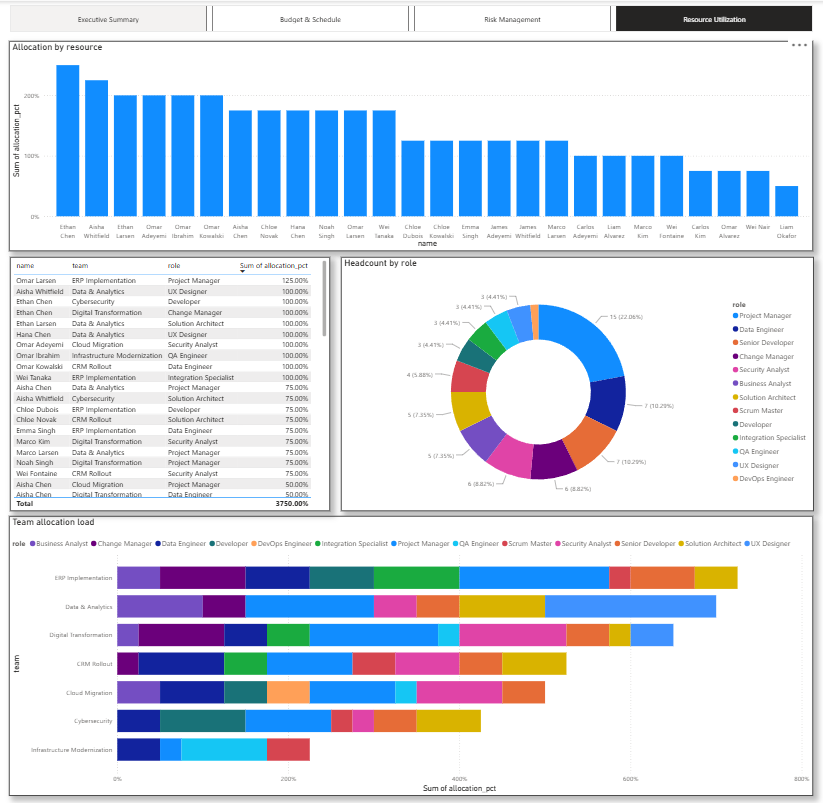

This screenshot's page, from the dashboard's own definition file:
{"tool":"powerbi","page":{"name":"Resource Utilization","canvas":[1550,1500],"ordinal":3},"visuals":[{"type":"clusteredColumnChart","title":"Allocation by resource","fields":{"Category":["Resources.name"],"Y":["Sum(Resources.allocation_pct)"]},"box":[18,74,1500,392],"z":0},{"type":"donutChart","title":"Headcount by role","fields":{"Category":["Resources.role"],"Y":["CountNonNull(Resources.resource_id)"]},"box":[638.1,477.6,882.5,473.9],"z":1000},{"type":"barChart","title":"Team allocation load","fields":{"Category":["Resources.team"],"Y":["Sum(Resources.allocation_pct)"],"Series":["Resources.role"]},"box":[18.7,960.8,1500,522.4],"z":2000},{"type":"tableEx","fields":{"Values":["Resources.name","Resources.team","Resources.role","Sum(Resources.allocation_pct)"]},"box":[20.5,477.6,597,473.9],"z":3000},{"type":"pageNavigator","box":[20.5,7.5,1498.1,50.4],"z":7000}]}

Visuals, with their boxes in screenshot pixels (x1, y1, x2, y2), scaled from the page's 1550x1500 canvas onto the 823x803 screenshot:
"Allocation by resource" clusteredColumnChart: box=[10, 40, 806, 249]
"Headcount by role" donutChart: box=[339, 256, 807, 509]
"Team allocation load" barChart: box=[10, 514, 806, 794]
tableEx - Resources.name x Resources.team: box=[11, 256, 328, 509]
pageNavigator: box=[11, 4, 806, 31]
